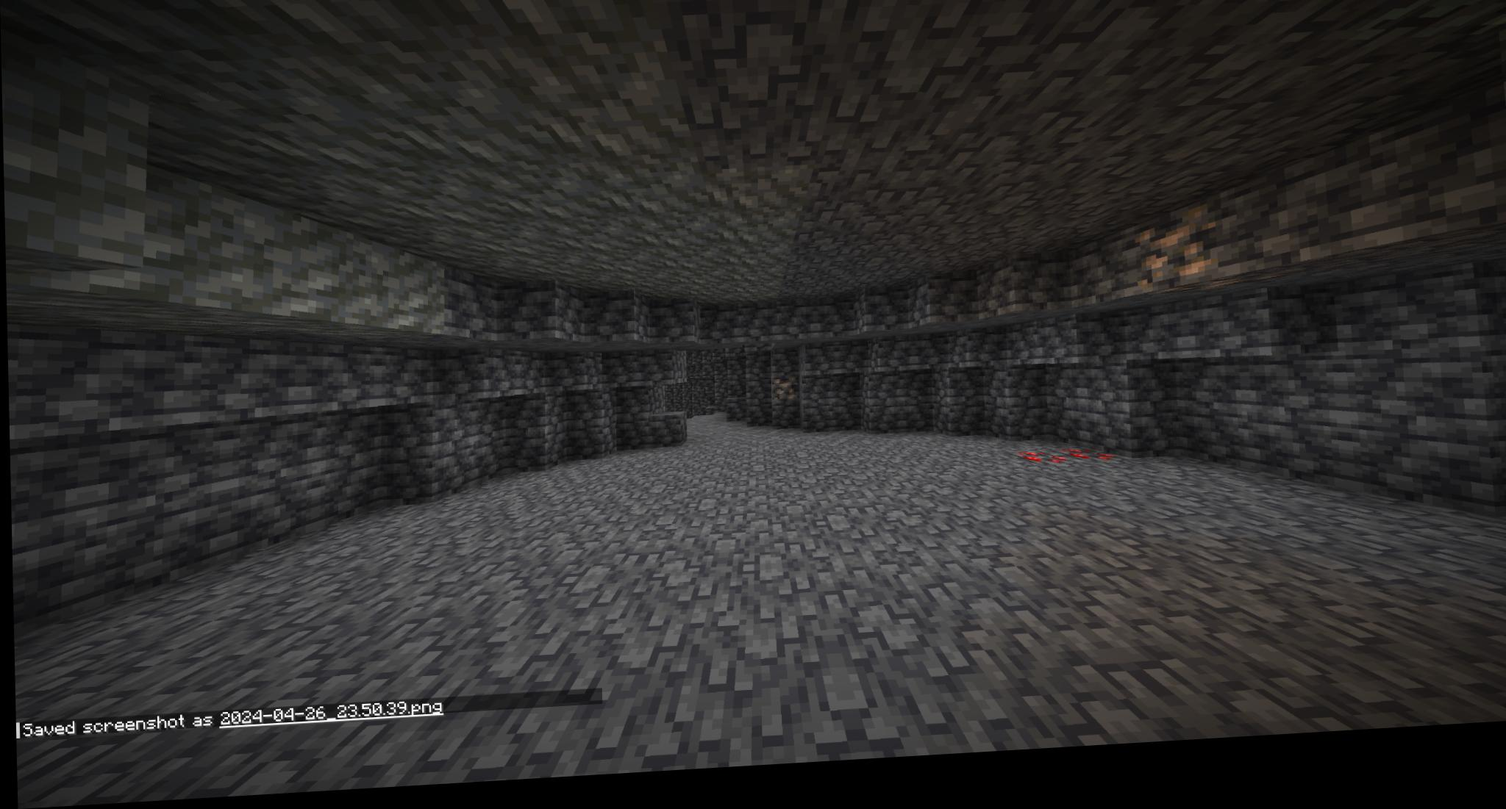iron ore: (1132, 231, 1225, 310), (767, 382, 798, 411)
redstone ore: (1015, 451, 1109, 484)
